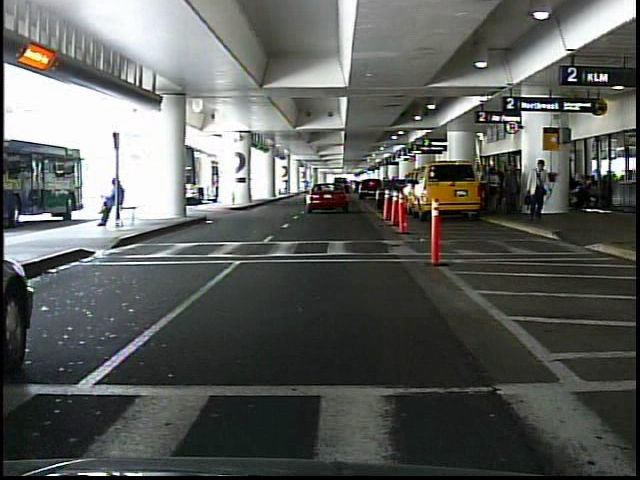person: (524, 158, 551, 218), (504, 163, 522, 219), (487, 166, 501, 212)
